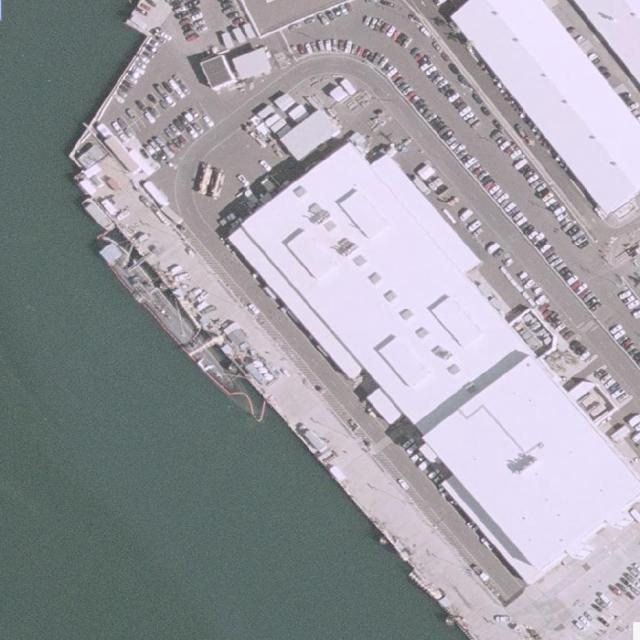Submarine: (95, 236, 245, 401)
